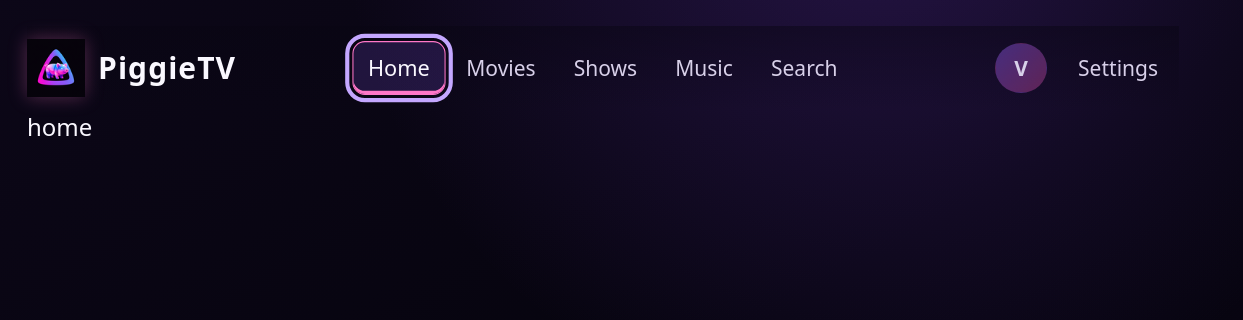
Test case: Phase 2 authenticated shell contract › renders the PTV brand, routes every primary destination, and exposes no Home Diagnostics shortcut
Expected: the navigation bar named "Primary" is shown, [337, 42, 869, 94]
Expected: the heading "PiggieTV" is shown, [98, 53, 236, 83]
What coordinates should you click on to do the following:
click the button "Movies"
I would click on:
 (501, 68)
Its box is [451, 42, 551, 94].
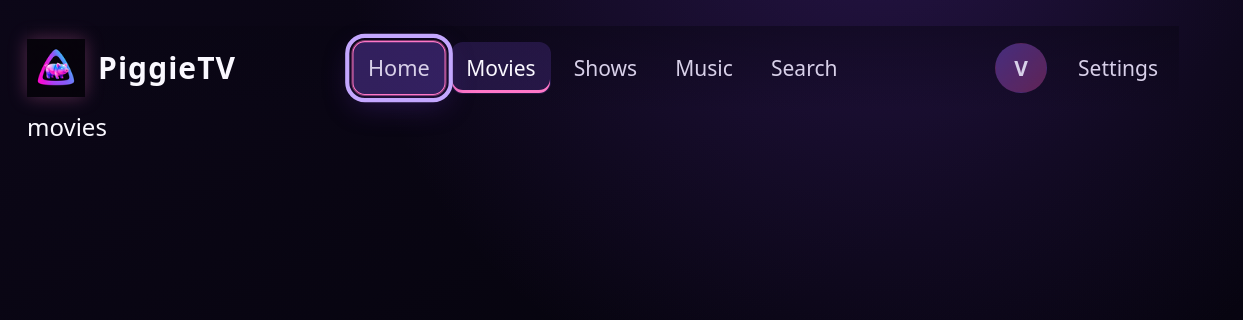
Expected: the text with test id "current-route" reads "movies", [27, 110, 107, 143]
What coordinates should you click on to do the following:
click the button "Shows"
I would click on:
 (605, 68)
Its box is [559, 42, 652, 94].
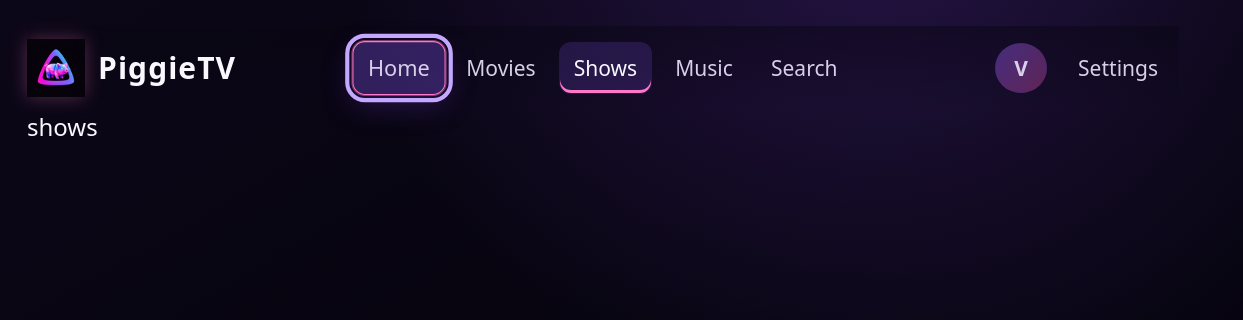
Expected: the text with test id "current-route" reads "shows", [27, 110, 98, 143]
What coordinates should you click on to do the following:
click the button "Music"
I would click on:
 (704, 68)
Its box is [660, 42, 748, 94].
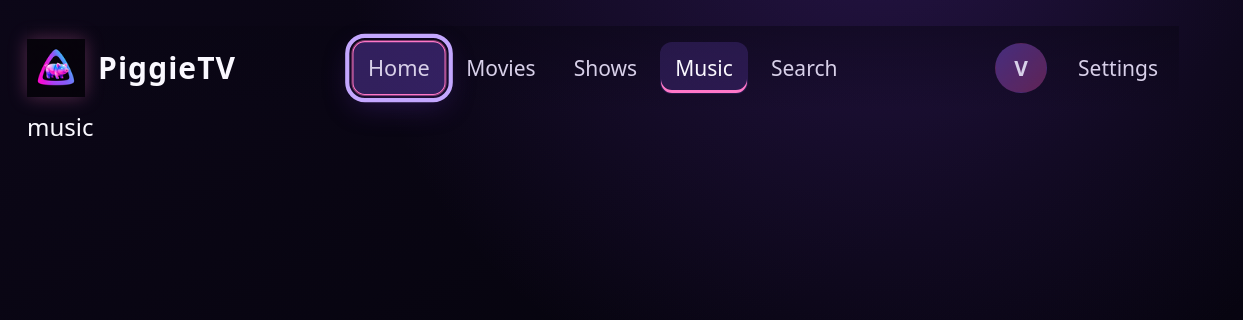
Expected: the text with test id "current-route" reads "music", [27, 110, 94, 143]
What coordinates should you click on to do the following:
click the button "Search"
I would click on:
 (804, 68)
Its box is [756, 42, 852, 94].
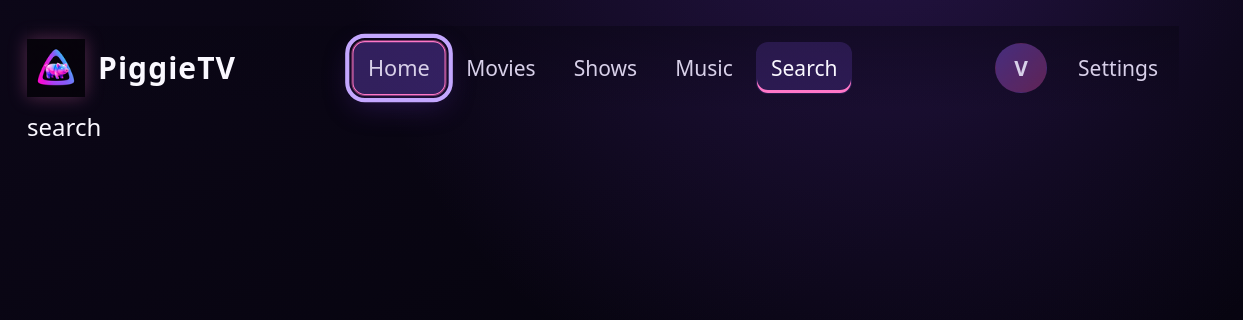
Expected: the text with test id "current-route" reads "search", [27, 110, 101, 143]
What coordinates should you click on to do the following:
click the button "Settings"
I would click on:
 (1118, 68)
Its box is [1057, 42, 1179, 94].
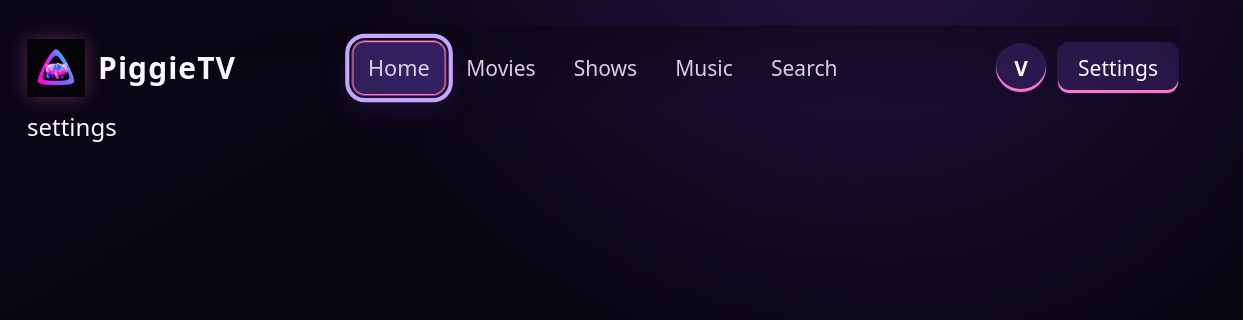
Expected: the text with test id "current-route" reads "settings", [27, 110, 117, 143]
